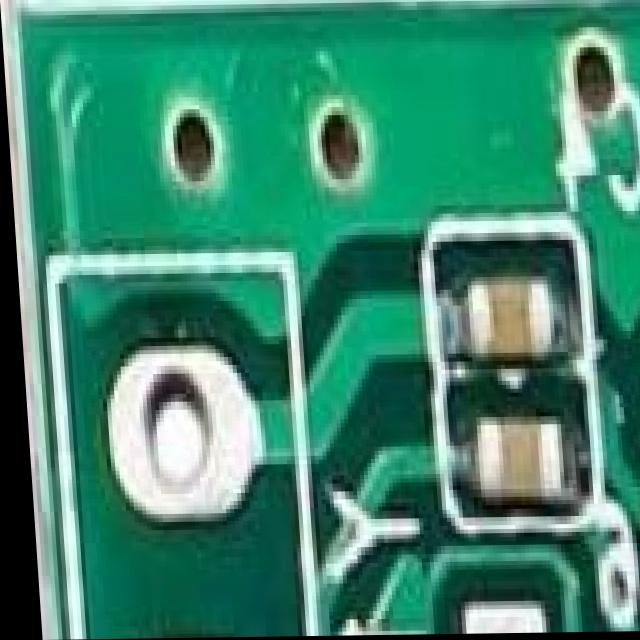capacitor: (450, 266, 559, 367), (471, 394, 559, 515)
